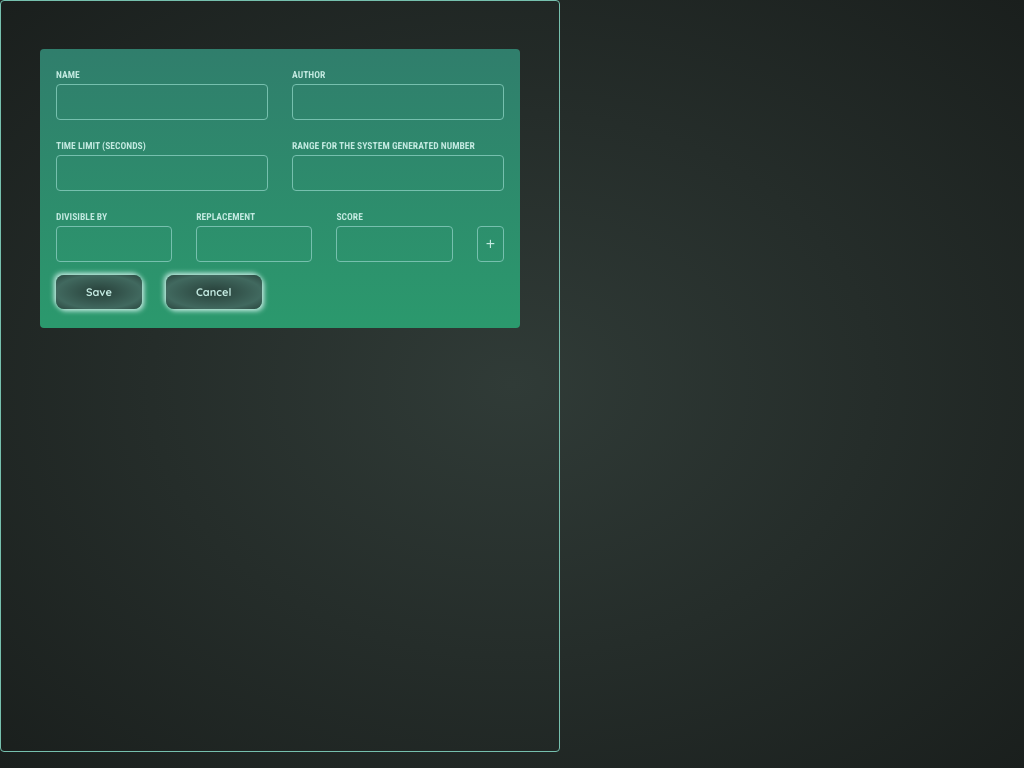
CreateGame Component › allows adding a new rule
The image size is (1024, 768).
In the number field labelled "Divisible By": (114, 244) [56,226,172,262], type "3"
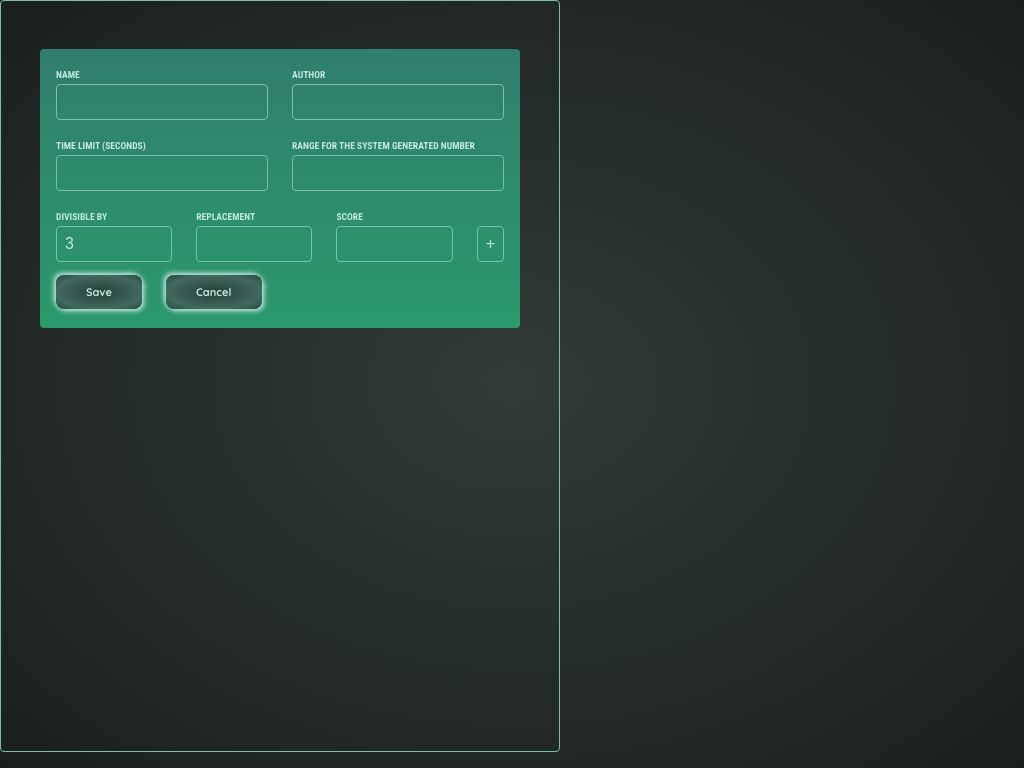
In the field labelled "Replacement": (254, 244) [196,226,312,262], type "FOO"
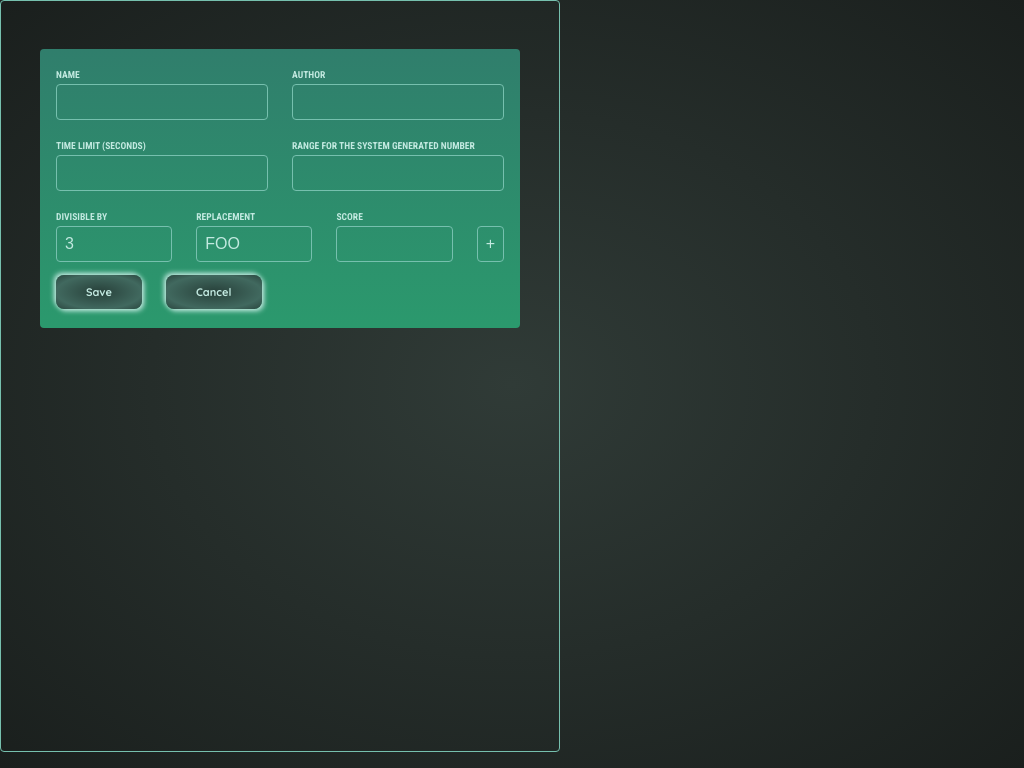
In the number field labelled "Score": (394, 244) [336,226,453,262], type "10"
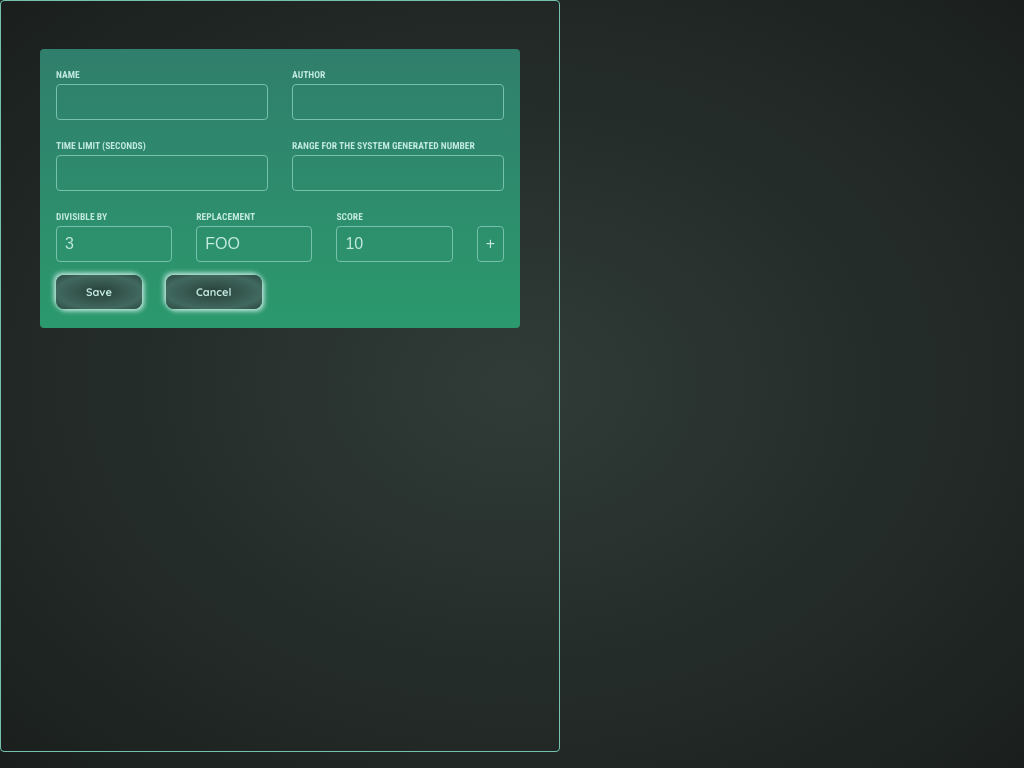
Click the button "+": (490, 244) [477,226,504,262]
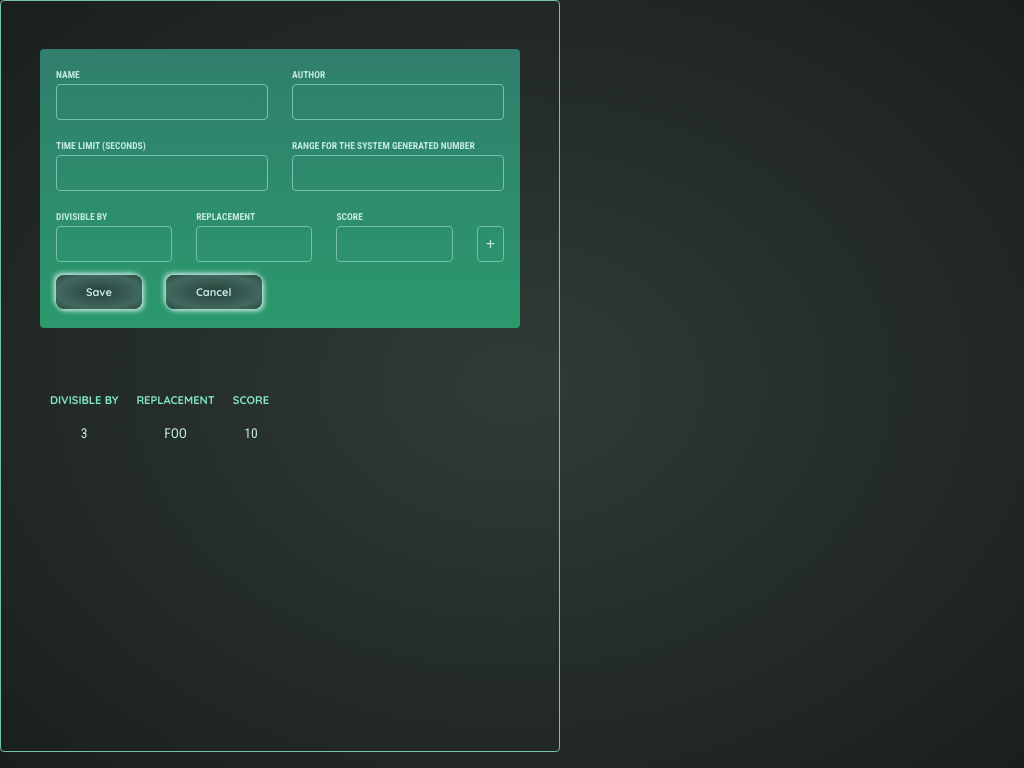
Expected: the text "3" is shown, [49,424,119,442]
Expected: the text "FOO" is shown, [135,424,216,442]
Expected: the text "10" is shown, [232,424,270,442]
